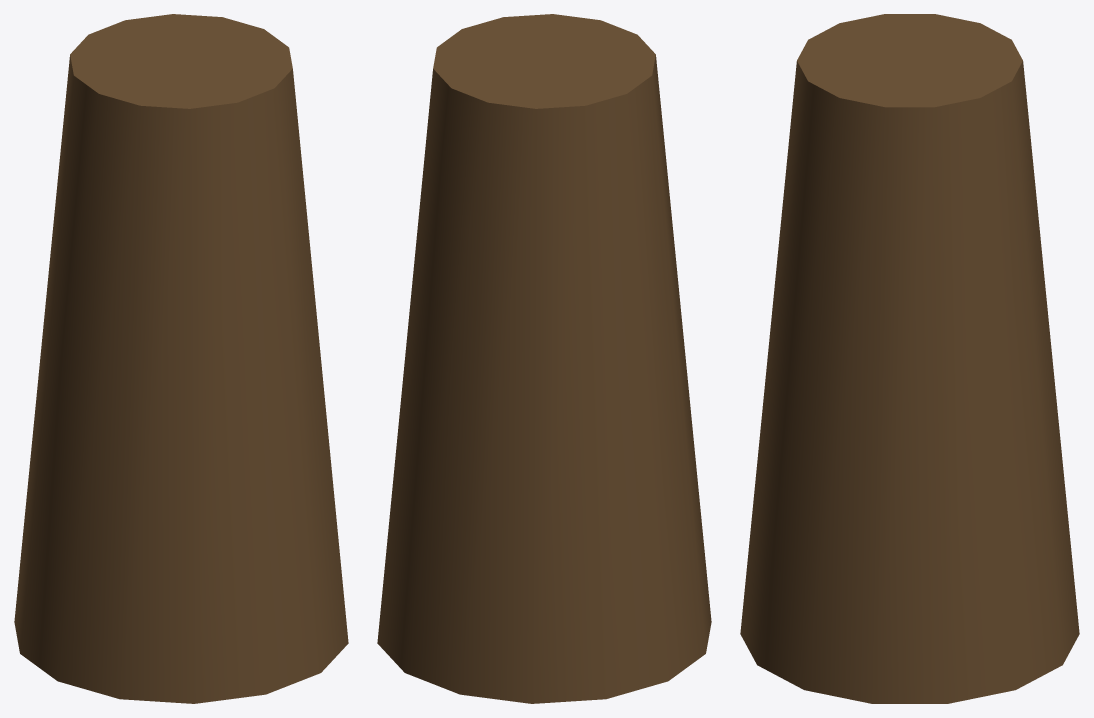
The model's file is trunk-upper.glb.
3 renders of one model, left to right at view 1: azimuth 30°, elevation 25°; view 2: azimuth 150°, elevation 25°; view 3: azimuth 270°, elevation 25°, orthographic.
Parts seen in each view (by area): view 1: Trunk Upper; view 2: Trunk Upper; view 3: Trunk Upper.
Part boxes in pixels (x1=…): Trunk Upper: x1=14, y1=14, x2=348, y2=703; Trunk Upper: x1=377, y1=14, x2=711, y2=703; Trunk Upper: x1=740, y1=14, x2=1079, y2=703.
Size of the model in its own units: 16.68 by 31.91 by 17.11.
